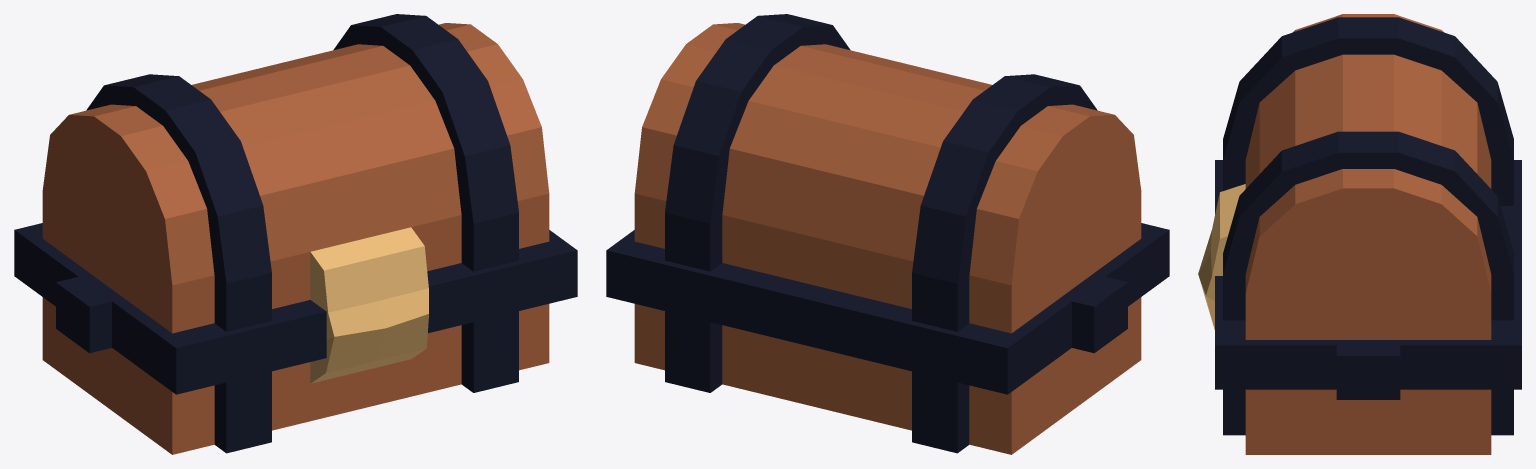
Rendered from Capstone_Chest_Rebecca.fbx.
3 renders of one model, left to right at view 1: azimuth 30°, elevation 25°; view 2: azimuth 150°, elevation 25°; view 3: azimuth 270°, elevation 25°, orthographic. The views are drawn at different scales.
Parts seen in each view (by area): view 1: Cube.004; view 2: Cube.004; view 3: Cube.004.
Boxes of the visible parts, x1=… form: Cube.004: x1=14, y1=14, x2=577, y2=454; Cube.004: x1=606, y1=14, x2=1169, y2=454; Cube.004: x1=1198, y1=14, x2=1521, y2=454.
Size of the model in its own units: 109 by 69.48 by 72.1.
